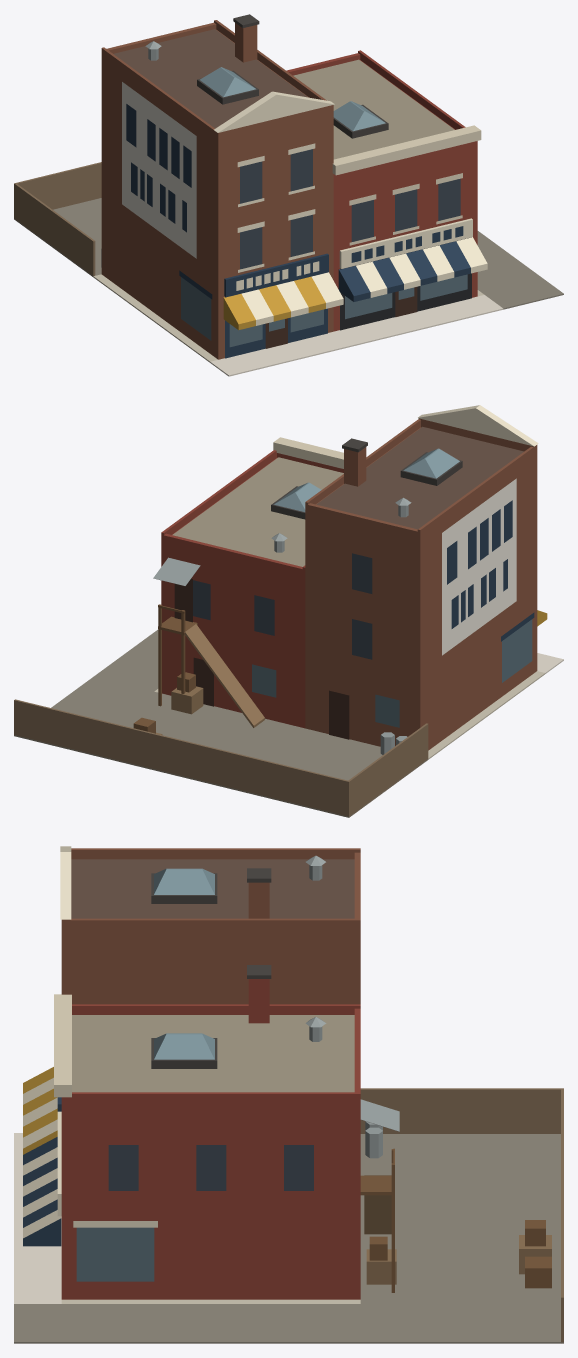
File: highstreet_d.glb
The picture shows the model from 3 angles, top to bottom: view 1: azimuth 30°, elevation 25°; view 2: azimuth 150°, elevation 25°; view 3: azimuth 270°, elevation 25°; orthographic projection. The views are drawn at different scales.
Parts seen in each view (by area): view 1: highstreet_d; view 2: highstreet_d; view 3: highstreet_d.
Boxes of the visible parts, <box> form: highstreet_d: <box>14,14,563,376</box>; highstreet_d: <box>14,405,563,817</box>; highstreet_d: <box>14,846,563,1343</box>.
Size of the model in its own units: 18 by 13.3 by 20.
